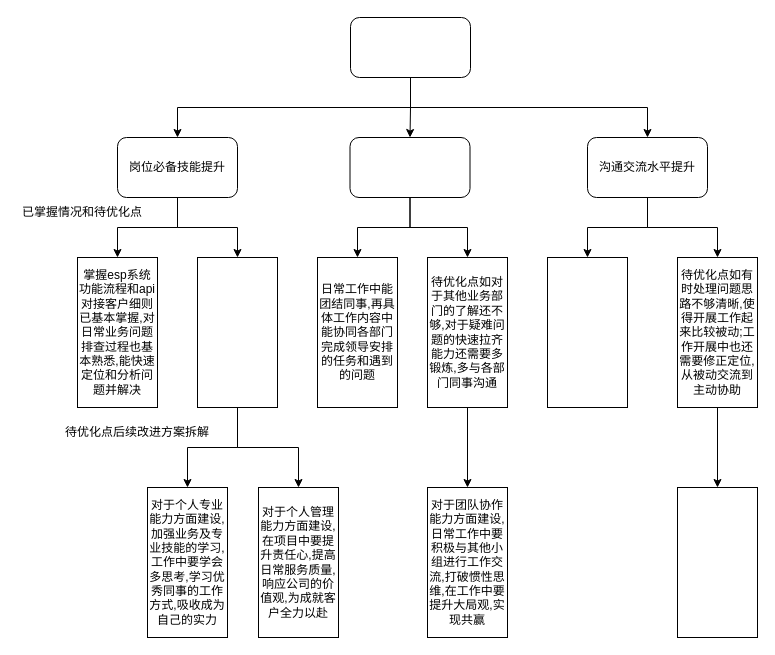
The diagram is 775 pixels wide and 655 high, and some of its shapes have lost their labels. Here are the shapes that lost their labels. From the top down, the box of each, then its label:
(350, 16, 470, 78): 掌握技术支持岗必备技能和团队协作能力以及沟通交流水平
(349, 136, 470, 198): 团队协作能力提升
(196, 256, 278, 408): 待优化点如缺乏对表面问题的深入分析,以及对各个定制客户业务的深入理解
(546, 256, 628, 408): 日常工作中能够友好和谐与客户同事交流,对于问题分析和疑问的解答也能精准沟通快速定位问题并解决
(676, 486, 758, 638): 对于个人交流表达能力方面建设,还需要有敢于说话的勇气,在工作中自信,大胆,积极,主动的多与他人沟通交流,创造和谐交流的工作氛围
